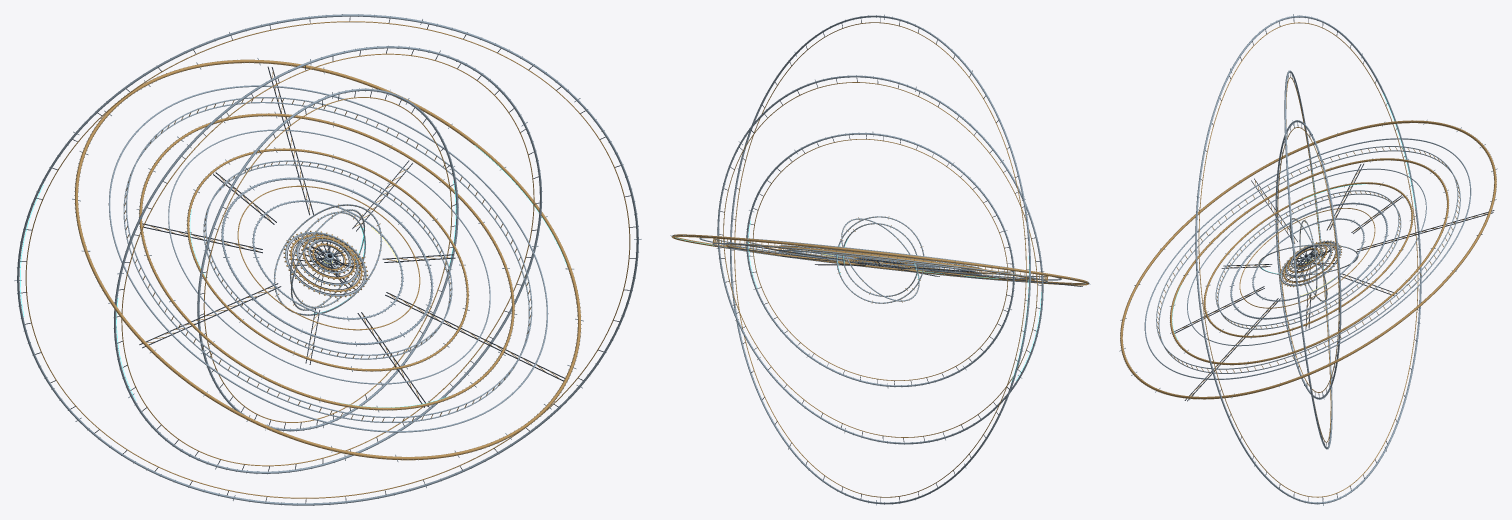
Rendered from Hintergrund_web.glb.
3 views of the same model, side by side, from view 1: azimuth 30°, elevation 25°; view 2: azimuth 150°, elevation 25°; view 3: azimuth 270°, elevation 25° (orthographic). The views are drawn at different scales.
Parts seen in each view (by area): view 1: Armillarring_02, Armillarring_01, Skalenring_07, Laufbahn_01, Armillarring_00, Skalenring_05, Radiales Tragwerk, Laufbahn_00, Skalenring_06, Skalenring_03, Skalenring_02, Skalenring_04 (+4 smaller); view 2: Armillarring_02, Armillarring_01, Armillarring_00, Skalenring_07, Laufbahn_01, Skalenring_05, Laufbahn_00, Radiales Tragwerk, Skalenring_03, Kardanring_01; view 3: Armillarring_02, Skalenring_07, Laufbahn_01, Skalenring_05, Radiales Tragwerk, Armillarring_00, Armillarring_01, Laufbahn_00, Skalenring_06, Skalenring_03, Skalenring_04, Skalenring_02 (+2 smaller).
Part boxes in pixels (x1=…): Armillarring_02: x1=14, y1=14, x2=641, y2=505; Armillarring_01: x1=113, y1=45, x2=542, y2=474; Skalenring_07: x1=72, y1=58, x2=583, y2=461; Laufbahn_01: x1=123, y1=97, x2=532, y2=422; Armillarring_00: x1=197, y1=88, x2=458, y2=431; Skalenring_05: x1=136, y1=112, x2=517, y2=411; Radiales Tragwerk: x1=139, y1=66, x2=564, y2=407; Laufbahn_00: x1=203, y1=160, x2=452, y2=359; Skalenring_06: x1=108, y1=85, x2=548, y2=432; Skalenring_03: x1=185, y1=147, x2=469, y2=371; Skalenring_02: x1=221, y1=176, x2=433, y2=346; Skalenring_04: x1=168, y1=129, x2=490, y2=384; Armillarring_02: x1=730, y1=14, x2=1030, y2=505; Armillarring_01: x1=716, y1=75, x2=1044, y2=444; Armillarring_00: x1=746, y1=131, x2=1014, y2=388; Skalenring_07: x1=670, y1=234, x2=1090, y2=285; Laufbahn_01: x1=712, y1=238, x2=1048, y2=282; Skalenring_05: x1=723, y1=243, x2=1036, y2=281; Laufbahn_00: x1=778, y1=245, x2=982, y2=274; Radiales Tragwerk: x1=727, y1=244, x2=1082, y2=286; Skalenring_03: x1=764, y1=245, x2=996, y2=274; Kardanring_01: x1=836, y1=216, x2=924, y2=303; Armillarring_02: x1=1195, y1=14, x2=1421, y2=505; Skalenring_07: x1=1119, y1=119, x2=1497, y2=400; Laufbahn_01: x1=1156, y1=146, x2=1460, y2=373; Skalenring_05: x1=1169, y1=158, x2=1449, y2=365; Radiales Tragwerk: x1=1174, y1=163, x2=1494, y2=401; Armillarring_00: x1=1275, y1=120, x2=1341, y2=399; Armillarring_01: x1=1284, y1=70, x2=1332, y2=449; Laufbahn_00: x1=1215, y1=190, x2=1401, y2=329; Skalenring_06: x1=1144, y1=138, x2=1471, y2=379; Skalenring_03: x1=1203, y1=182, x2=1414, y2=338; Skalenring_04: x1=1187, y1=168, x2=1426, y2=346; Skalenring_02: x1=1229, y1=202, x2=1388, y2=320.
Size of the model in its own units: 18.59 by 19.72 by 15.67.
